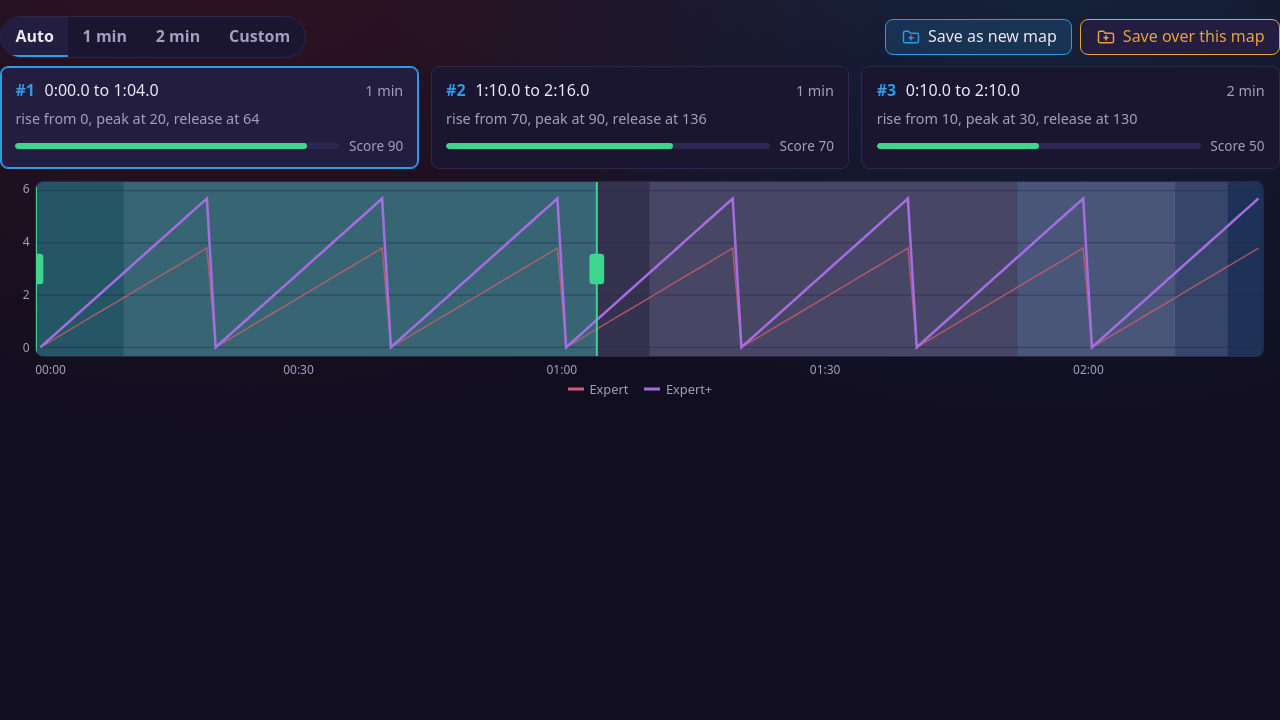
Save over this map › confirming posts replace: true with seconds and announces Map replaced
Expected: the slider labelled "Crop end" is shown, [590,182,604,356]
Click the button "Save over this map": (1180,37) [1080,19,1279,55]
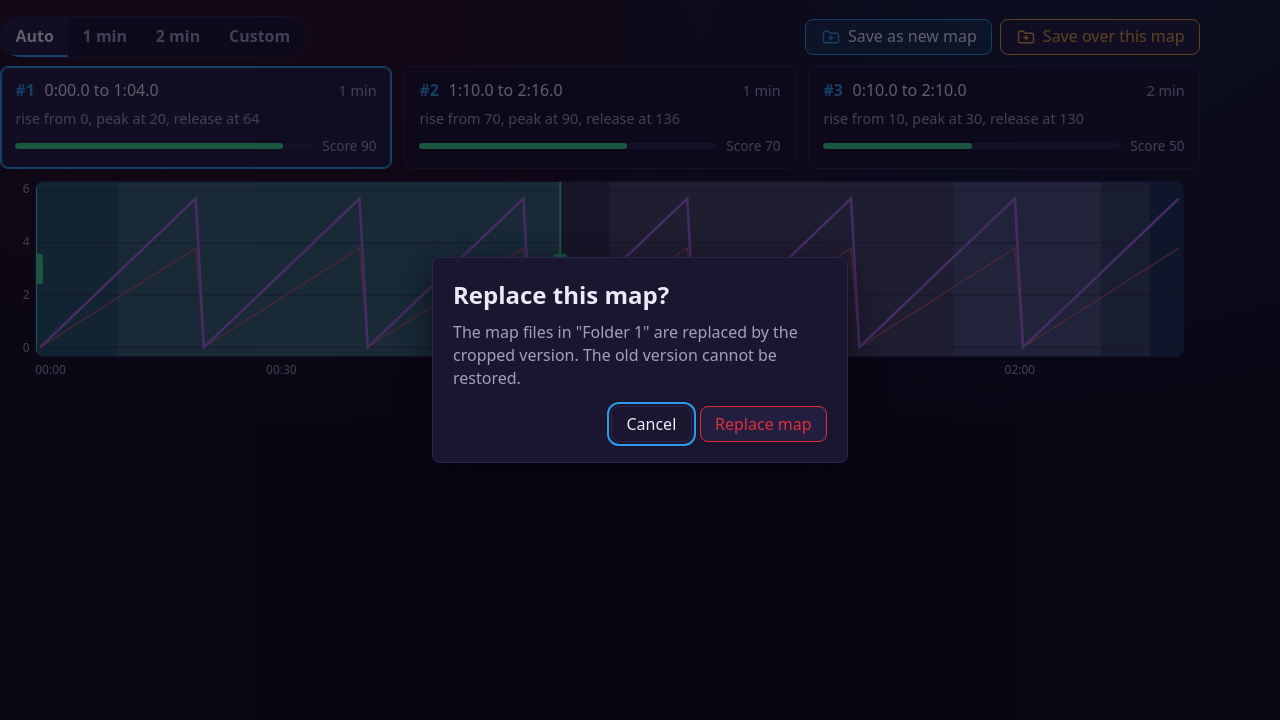
Click the button "Replace map": (763,424) [700,406,827,442]
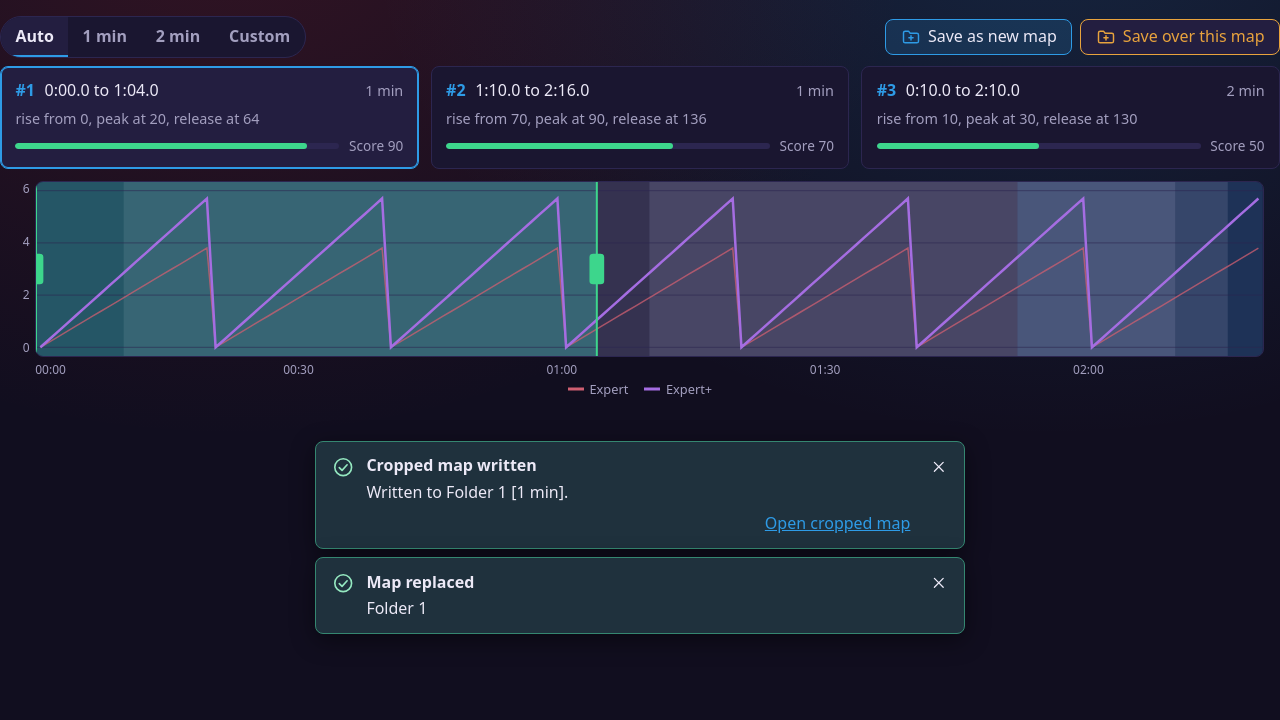
Expected: the text "Map replaced" is shown, [366,571,474,593]
